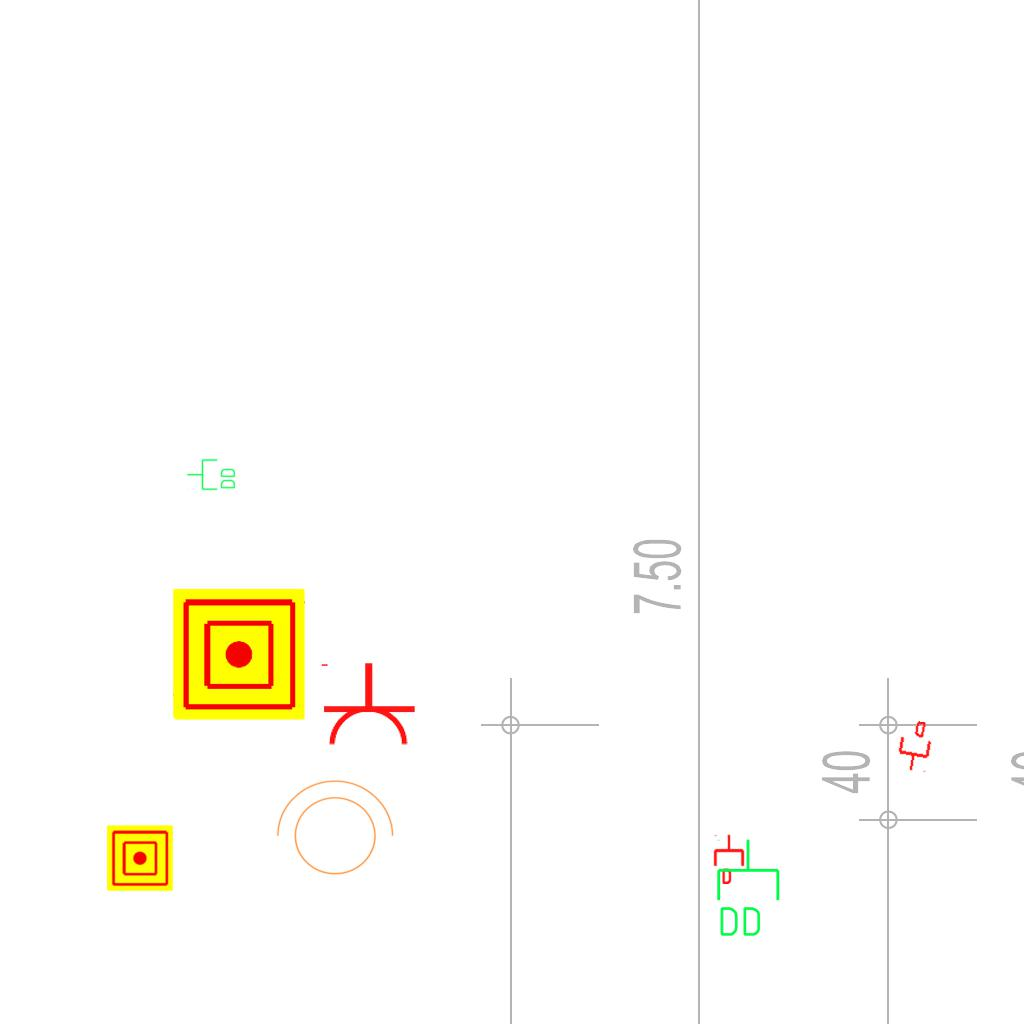Datenanschluss_einfach: (893, 718, 937, 774), (712, 834, 746, 884)
Datenanschluss_zweifach: (713, 837, 782, 940), (186, 458, 237, 492)
NAM-Nichtautomatischer_Melder: (173, 588, 305, 720), (107, 825, 173, 891)
Scheinwerfer_fuer_Alarmbeleuchtung: (266, 775, 398, 887)
Schukosteckdose_einfach: (317, 661, 417, 748)
